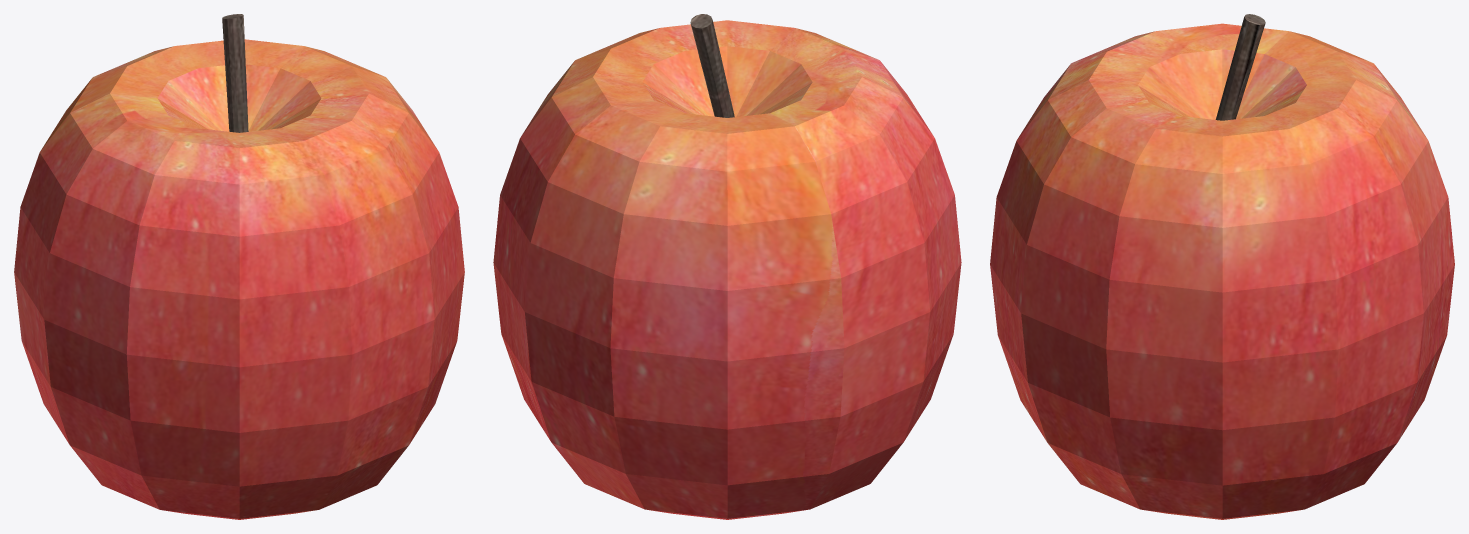
The model's file is apple-2.dae.
3 renders of one model, left to right at view 1: azimuth 30°, elevation 25°; view 2: azimuth 150°, elevation 25°; view 3: azimuth 270°, elevation 25°, orthographic. The views are drawn at different scales.
Visible parts, largest first — view 1: Apple; view 2: Apple; view 3: Apple.
Part boxes in pixels (bbox=[...]): Apple: bbox=[14, 14, 464, 519]; Apple: bbox=[493, 14, 961, 519]; Apple: bbox=[990, 14, 1454, 519].
Size of the model in its own units: 3.72 by 3.72 by 4.07.
1 material, 1 textured.
